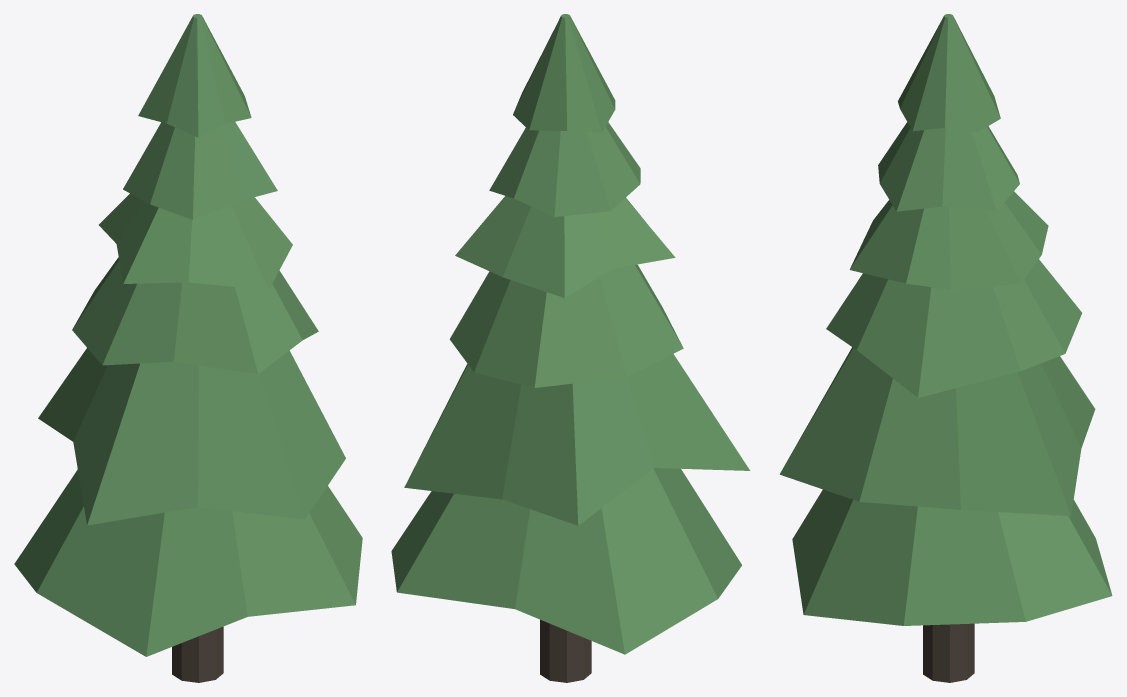
File: stablo1.fbx
3 views of the same model, side by side, from view 1: azimuth 30°, elevation 25°; view 2: azimuth 150°, elevation 25°; view 3: azimuth 270°, elevation 25° (orthographic).
Visible parts, largest first — view 1: Cylinder.025; view 2: Cylinder.025; view 3: Cylinder.025.
Boxes of the visible parts, box(x1,y1,x2,y2) form: Cylinder.025: box(14, 14, 362, 682); Cylinder.025: box(391, 14, 750, 682); Cylinder.025: box(779, 14, 1112, 682).
Size of the model in its own units: 1431 by 2994 by 1377.
